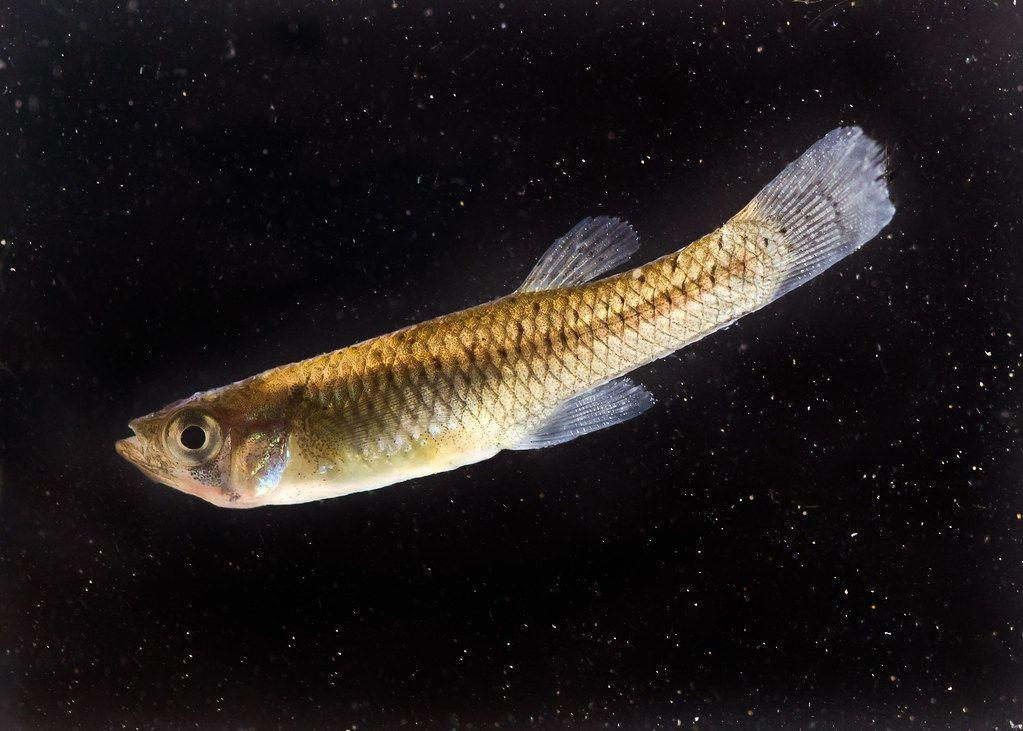Mosquito Fish: (115, 122, 890, 518)
